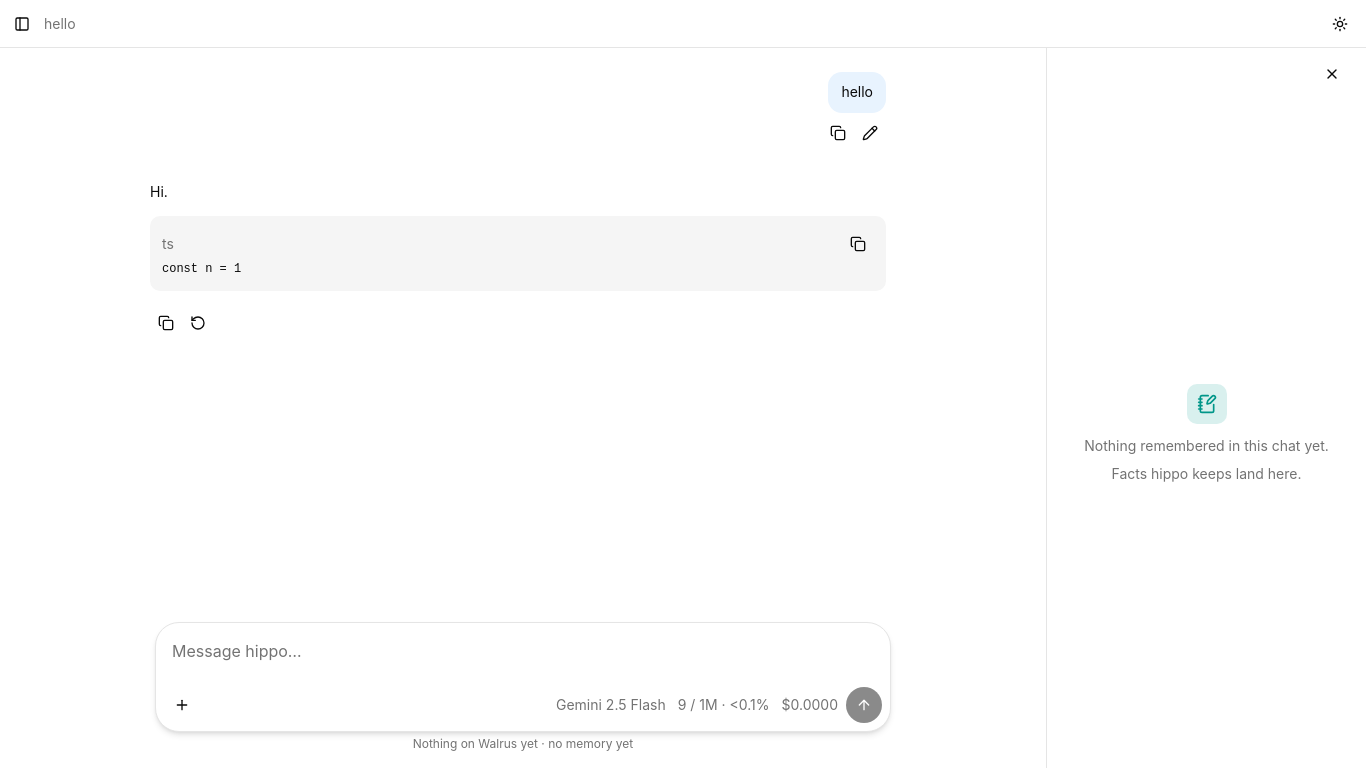
Scenario: chat page › retries the last answer and edits the last user line through one resend
Expected: the number of buttons named "Edit message" is 1, [854,117,886,149]
Expected: the number of buttons named "Retry answer" is 1, [182,307,214,339]
Click the button named "Copy message" below "const n = 1": (166, 323) [150,307,182,339]
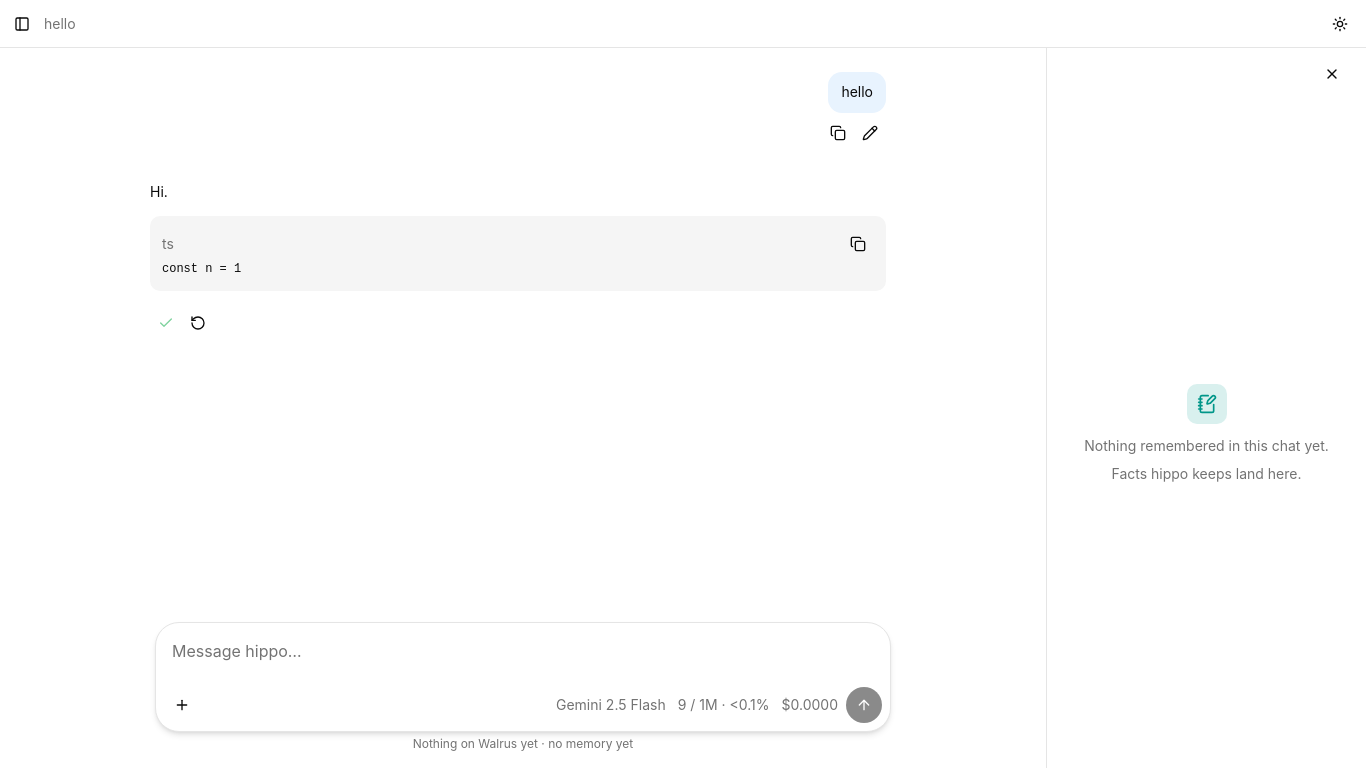
Click the button named "Retry answer": (198, 323) [182,307,214,339]
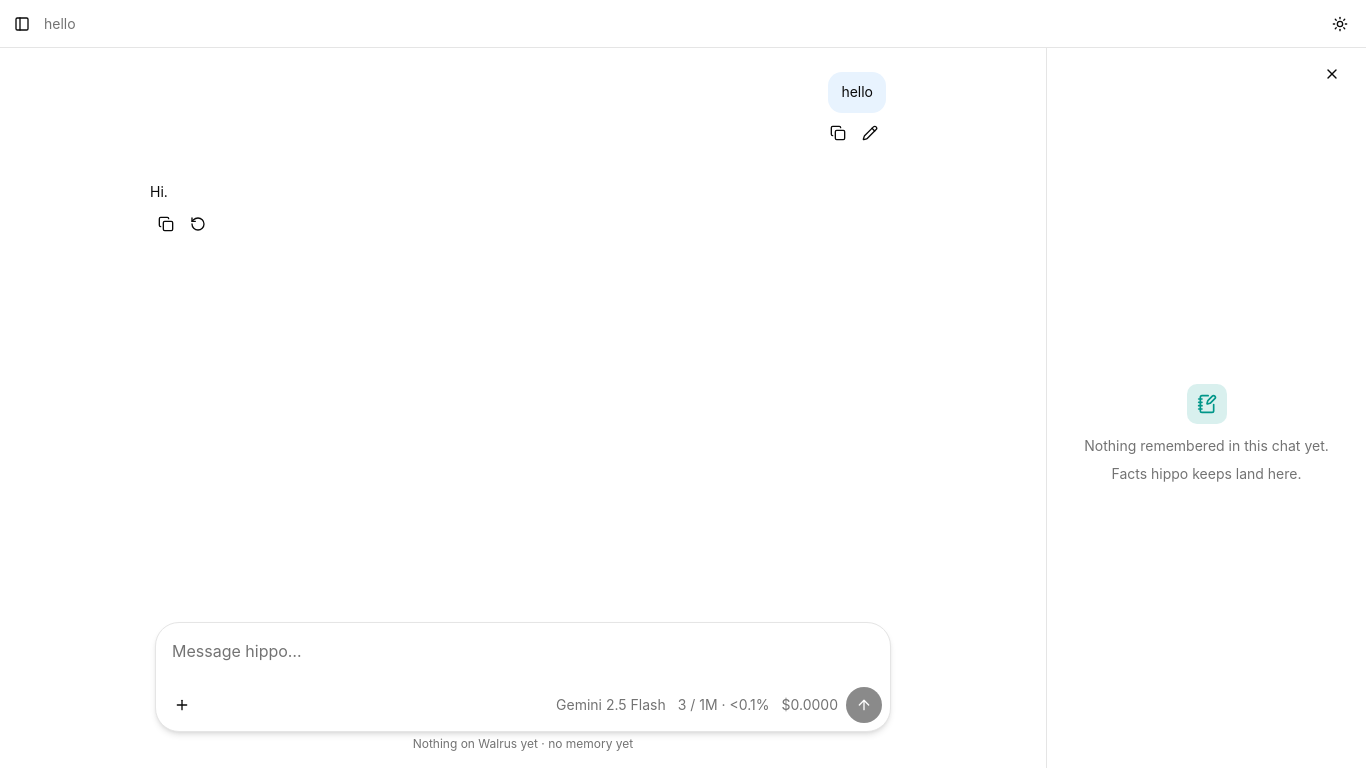
Click the button named "Edit message": (870, 133) [854,117,886,149]
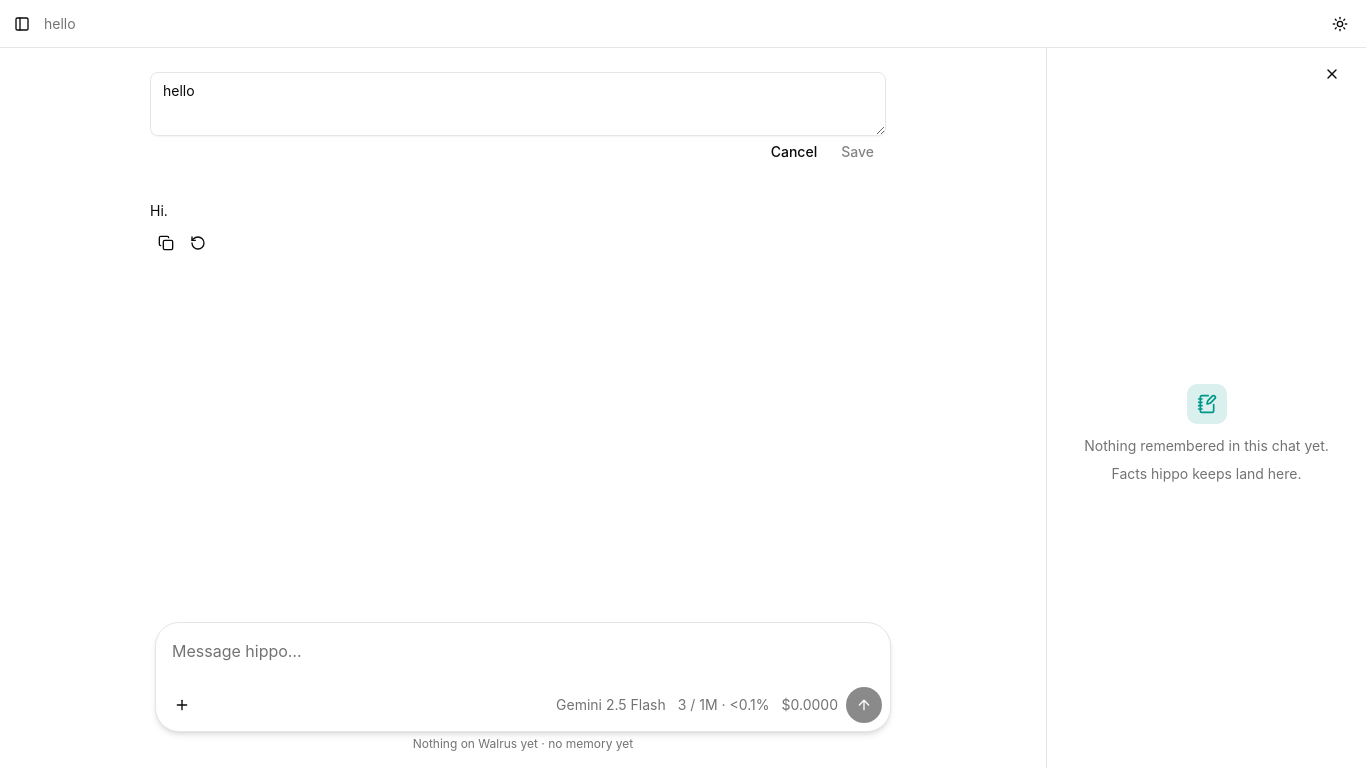
Replace the text in the text box named "Edit message" with "hello again": (518, 104) [150,72,886,136]
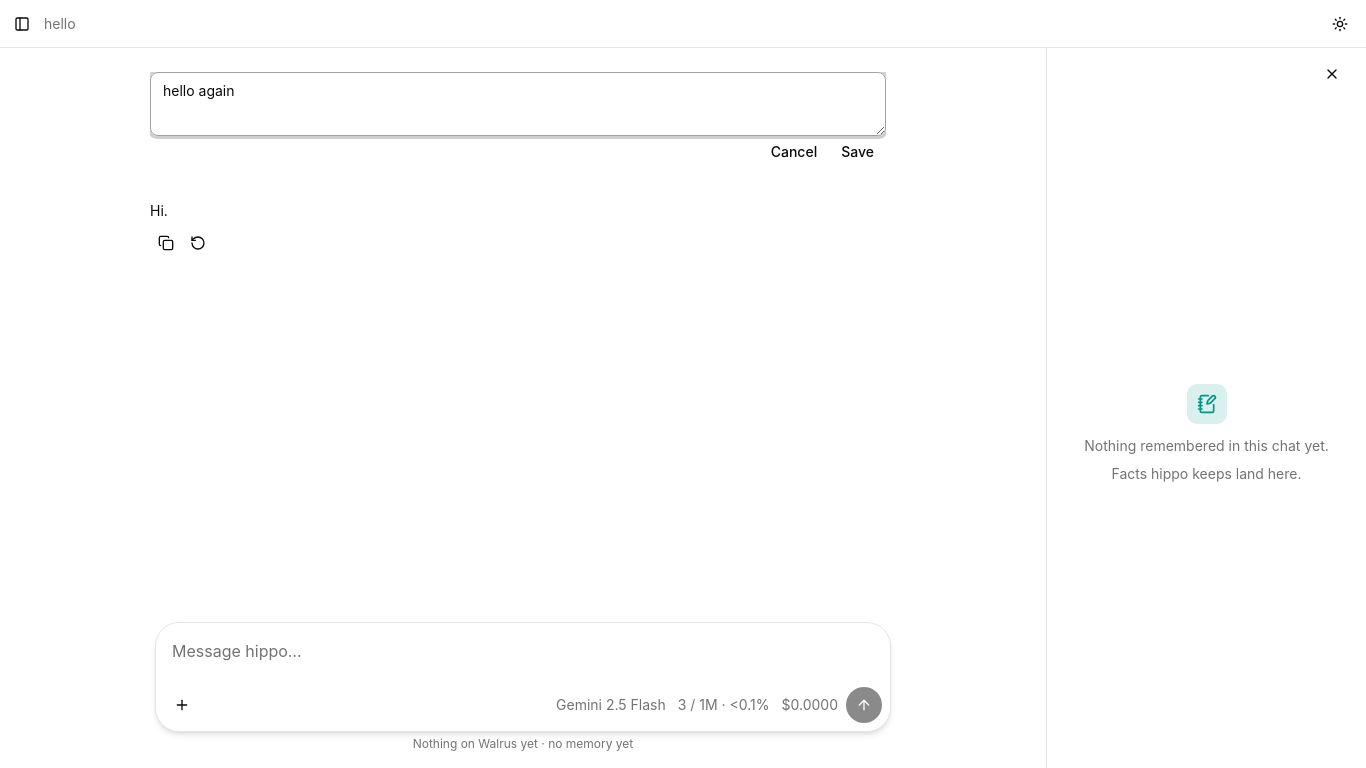
Click the button "Save": (858, 152) [829,136,886,168]
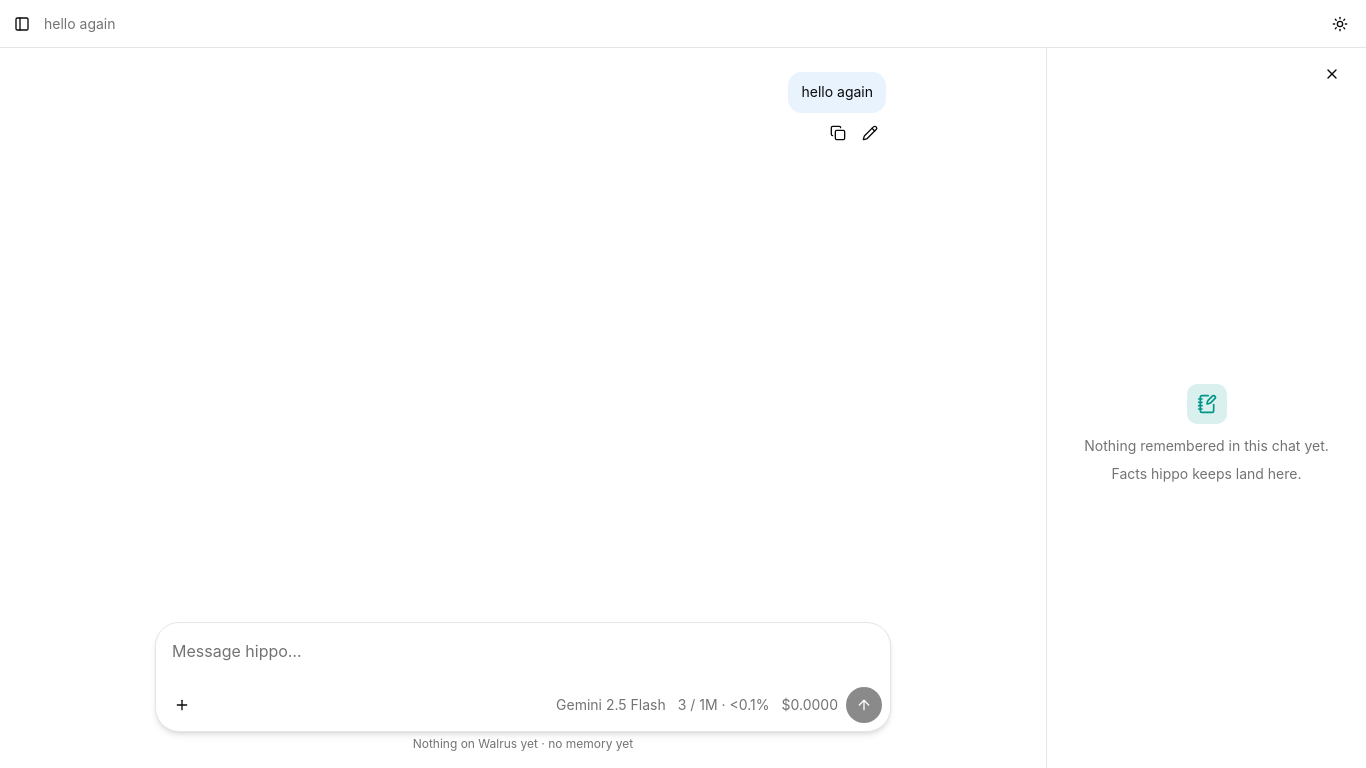
Result: the text "hello again" is shown at [44,14,116,32]
